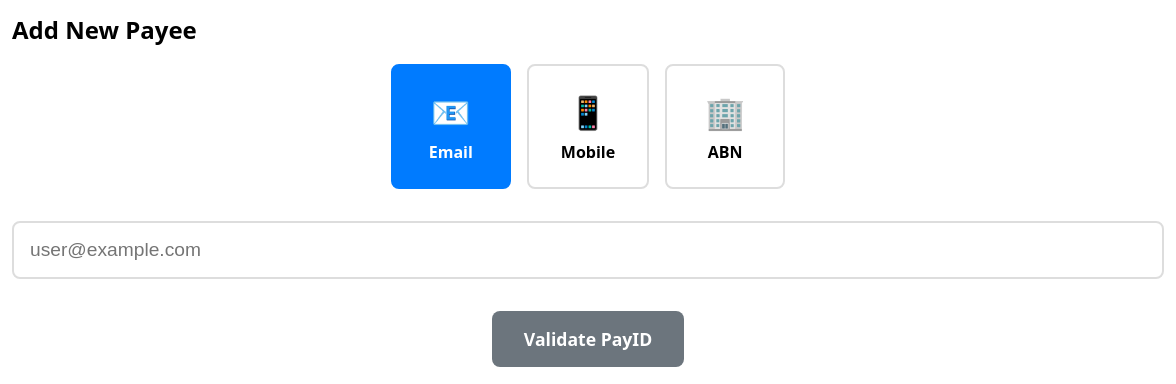
AddNewPayee › PayID type selection › should enable Validate PayID button when PayID is entered
Check: the button "Validate PayID" is disabled, box [492,311,684,367]
Type "test@example.com" into the field with placeholder "user@example.com" at (588,250), box [12,221,1164,279]
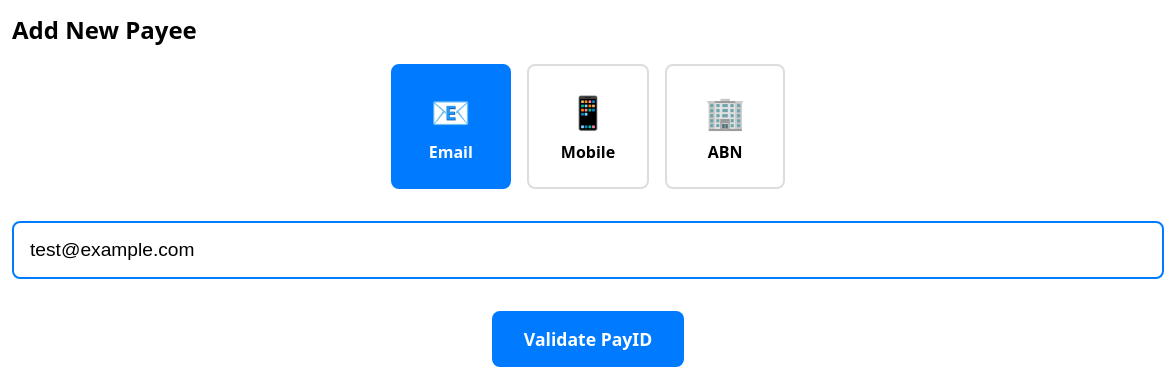
Check: the button "Validate PayID" is enabled, box [492,311,684,367]
